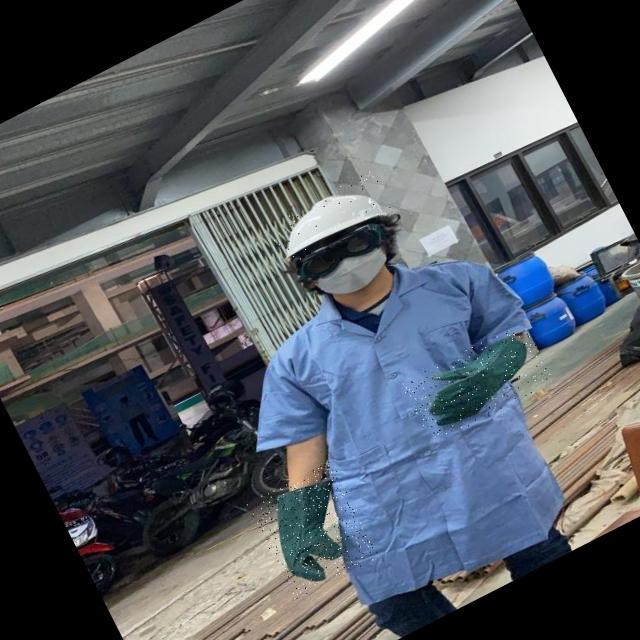hard_hat: (262, 170, 395, 270)
